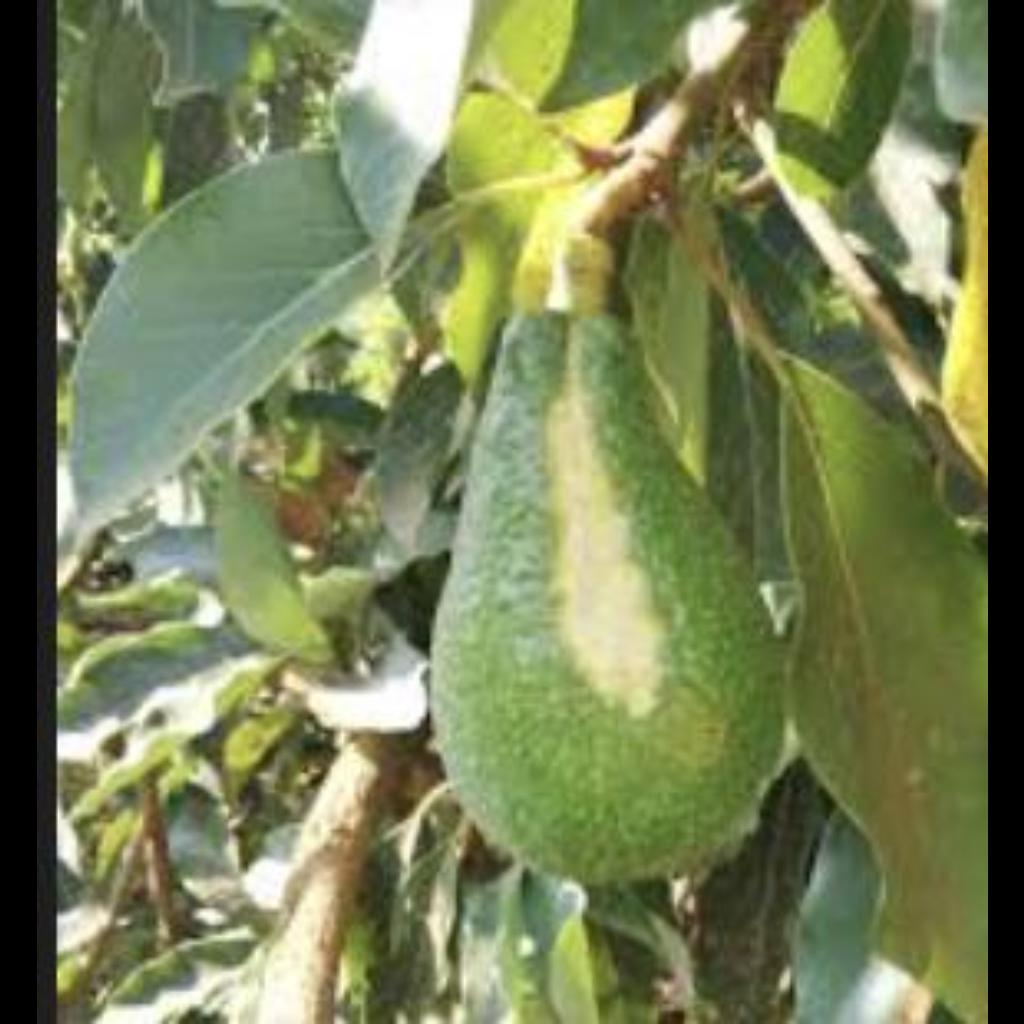sunblotch: (421, 320, 798, 898)
